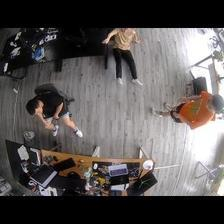fall: (102, 28, 148, 88)
normal: (25, 87, 83, 140), (156, 88, 223, 131)
